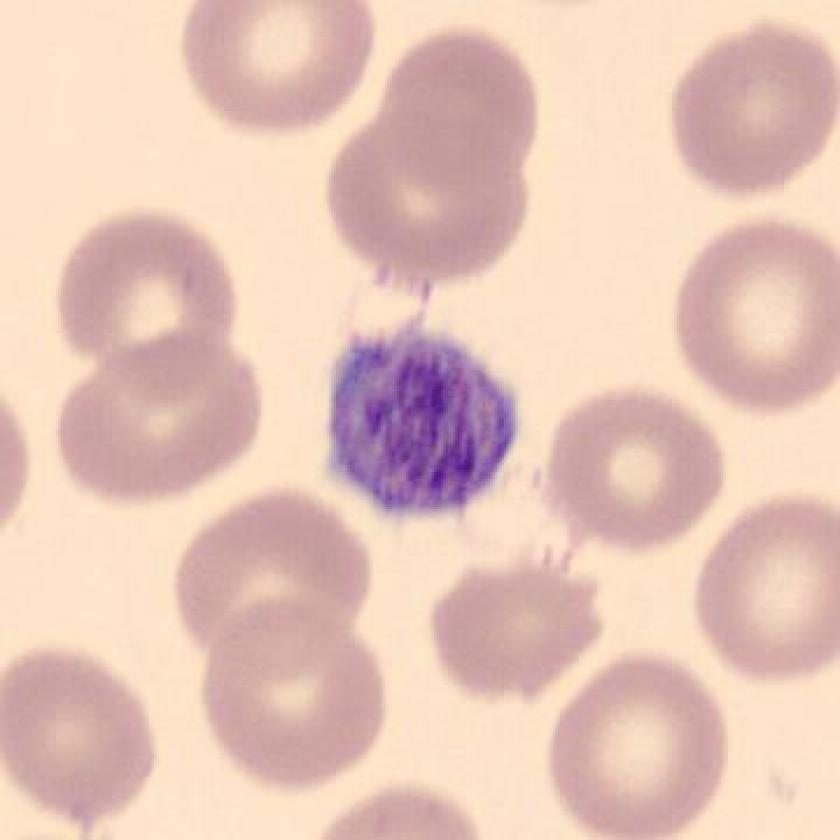platelets: (309, 318, 526, 531)
